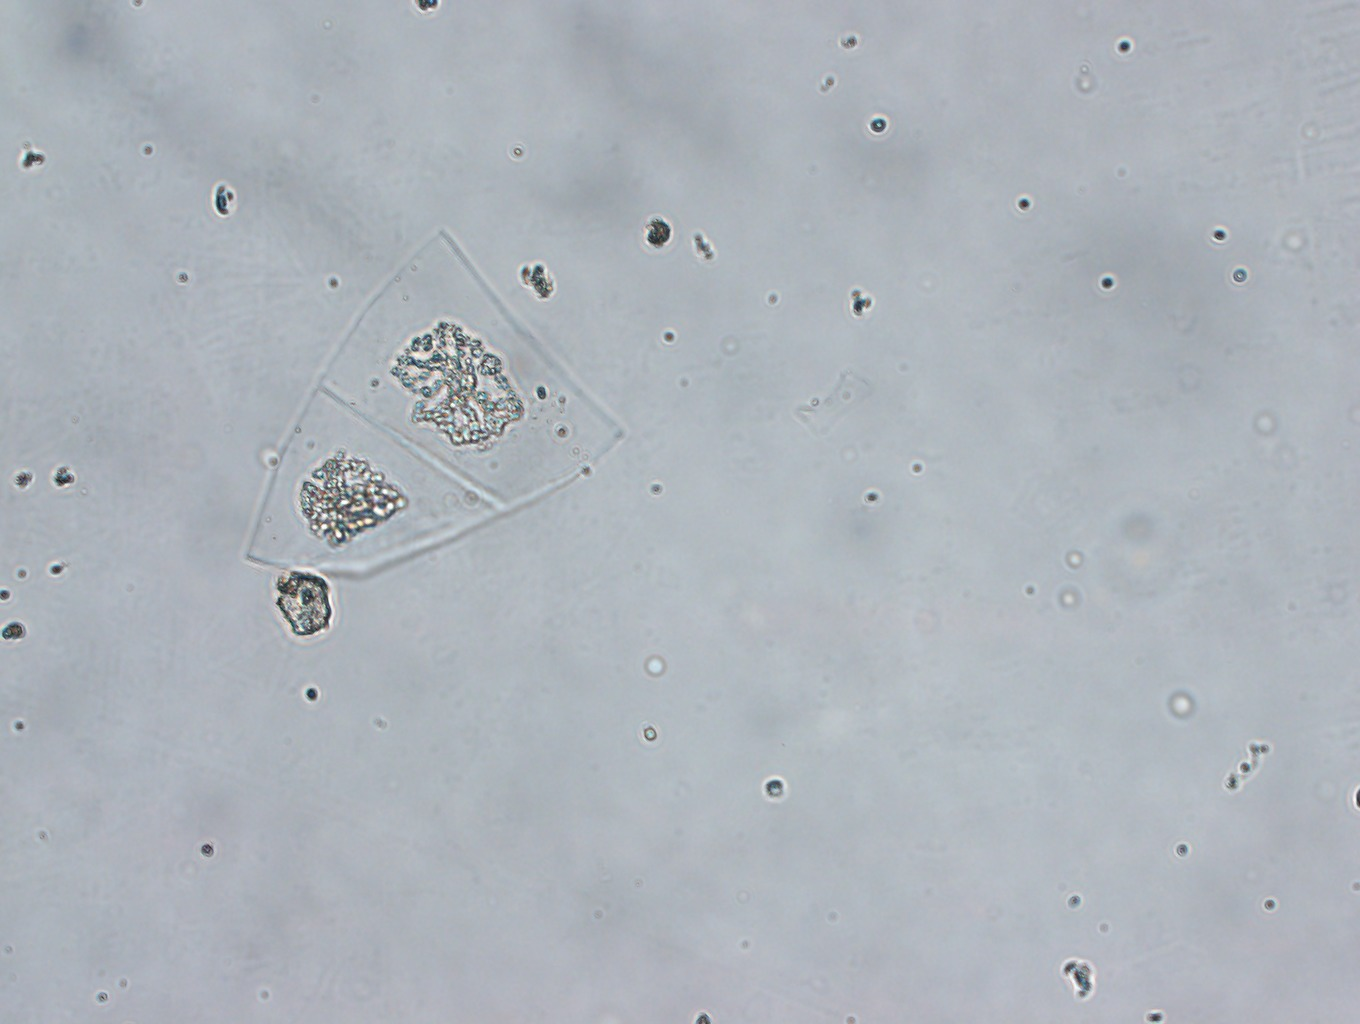helicotheca: (242, 223, 629, 586)
